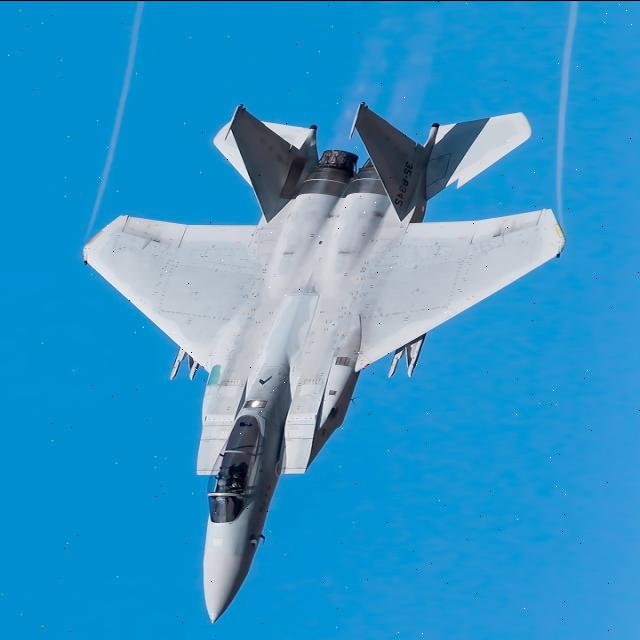F15: (29, 73, 598, 640)
